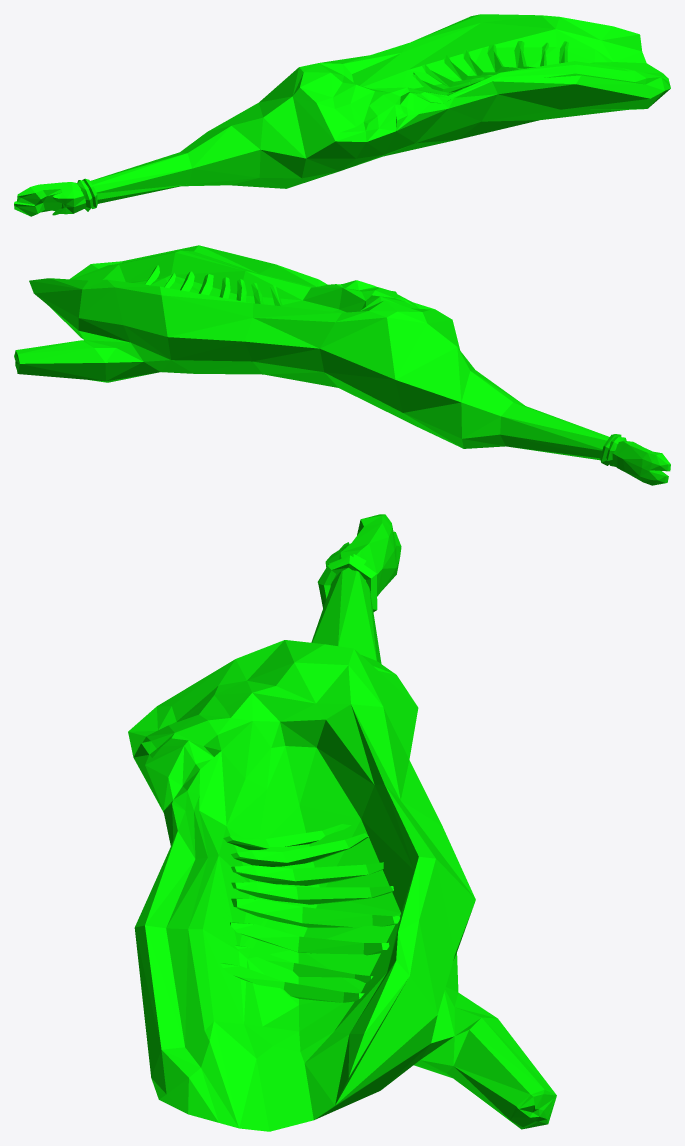
The model's file is SM_Pig_Torso_Half_Fantasy.fbx.
3 views of the same model, one above another, from view 1: azimuth 30°, elevation 25°; view 2: azimuth 150°, elevation 25°; view 3: azimuth 270°, elevation 25° (orthographic). The views are drawn at different scales.
Visible parts, largest first — view 1: pig-torso-half-fantasy; view 2: pig-torso-half-fantasy; view 3: pig-torso-half-fantasy.
Part boxes in pixels (x1=…): pig-torso-half-fantasy: x1=14, y1=14, x2=670, y2=216; pig-torso-half-fantasy: x1=14, y1=245, x2=670, y2=485; pig-torso-half-fantasy: x1=128, y1=514, x2=556, y2=1131.
Size of the model in its own units: 1.89 by 0.305 by 0.568.
